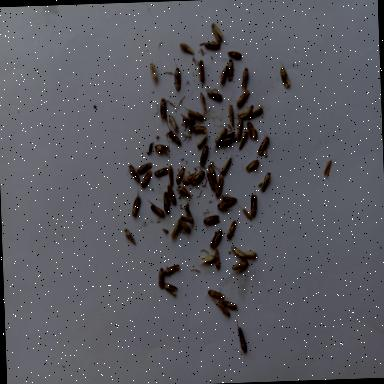pbw: (219, 128, 238, 152), (212, 126, 229, 150), (166, 122, 182, 145), (148, 198, 164, 218), (210, 226, 224, 248), (214, 298, 231, 316), (235, 88, 252, 106), (236, 102, 255, 118), (219, 155, 234, 175), (249, 186, 259, 216), (180, 202, 194, 223), (189, 168, 205, 186), (240, 64, 251, 90), (259, 170, 272, 192), (126, 162, 140, 182), (210, 22, 224, 42), (158, 96, 168, 124), (185, 106, 205, 120), (280, 63, 291, 88), (246, 119, 259, 140), (225, 218, 238, 239), (175, 184, 192, 200), (237, 128, 249, 150), (198, 144, 210, 166), (174, 59, 182, 91), (248, 102, 264, 118), (218, 64, 229, 87), (195, 130, 209, 148), (214, 174, 225, 196), (216, 200, 238, 211), (207, 162, 218, 184), (226, 56, 236, 80), (139, 169, 153, 186), (123, 226, 136, 244), (166, 181, 176, 204), (206, 286, 225, 298), (236, 116, 245, 141), (228, 100, 236, 128), (239, 204, 253, 220), (178, 216, 192, 232), (206, 86, 222, 100), (230, 244, 246, 258), (164, 262, 180, 276), (163, 190, 172, 214), (231, 258, 249, 270), (154, 142, 172, 154), (164, 281, 178, 296), (246, 158, 260, 173), (203, 213, 220, 225), (175, 165, 186, 183), (179, 41, 194, 54), (182, 171, 197, 184), (198, 58, 206, 82), (136, 160, 152, 172), (220, 191, 237, 202), (168, 112, 178, 130), (170, 222, 180, 240), (200, 253, 216, 264), (199, 40, 221, 48), (226, 49, 243, 59), (199, 90, 207, 111), (223, 298, 238, 309), (153, 166, 169, 176), (150, 62, 158, 82), (214, 247, 221, 268), (168, 162, 174, 186), (158, 266, 164, 290), (192, 123, 208, 132), (245, 249, 257, 257)
